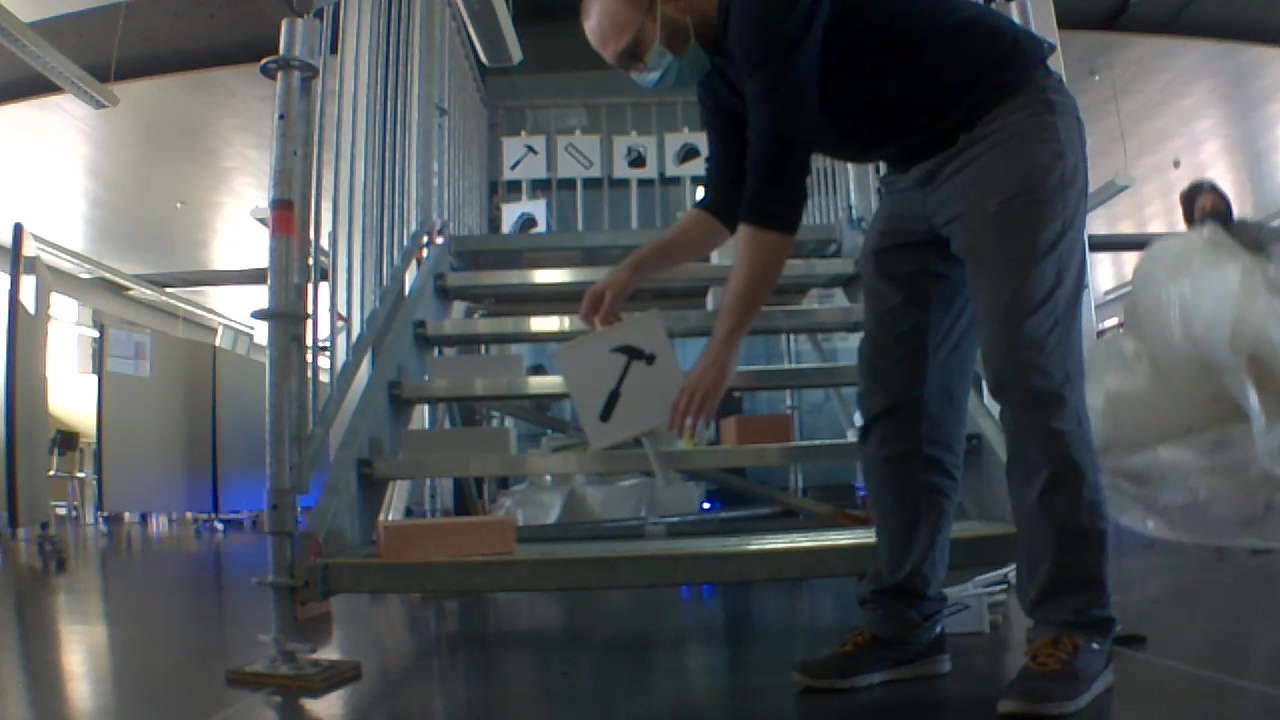brick: (377, 516, 515, 559), (403, 426, 516, 460), (426, 353, 524, 381), (720, 414, 793, 444)
bucket: (621, 142, 648, 168)
hammer: (578, 341, 661, 423), (505, 140, 539, 174)
ruler: (561, 136, 596, 173)
taco: (669, 138, 703, 169), (502, 208, 539, 235)
